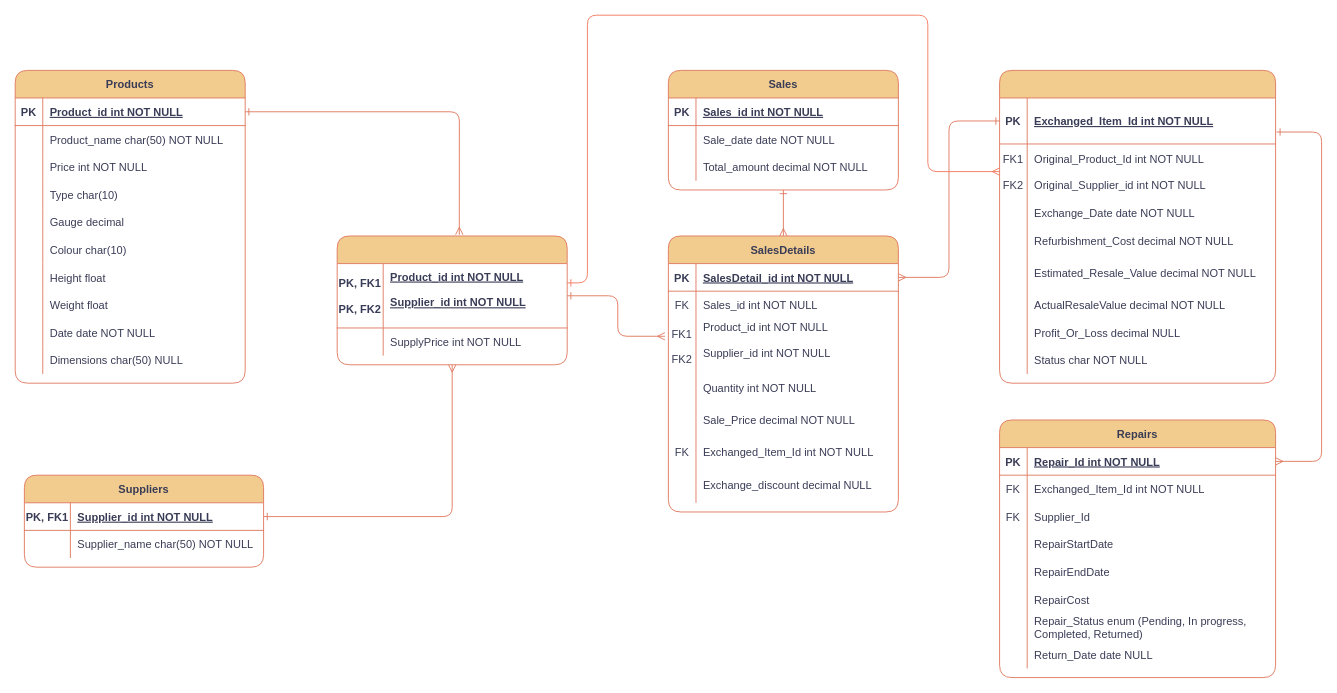
Image size: 1337x693. Some labels were removed from this diagram. The box of each missing label's shape, as (x1, y1, x2, y2) in pixels:
ExchangedItems: (999, 69, 1276, 383)
Products_Suppliers: (336, 235, 567, 365)
